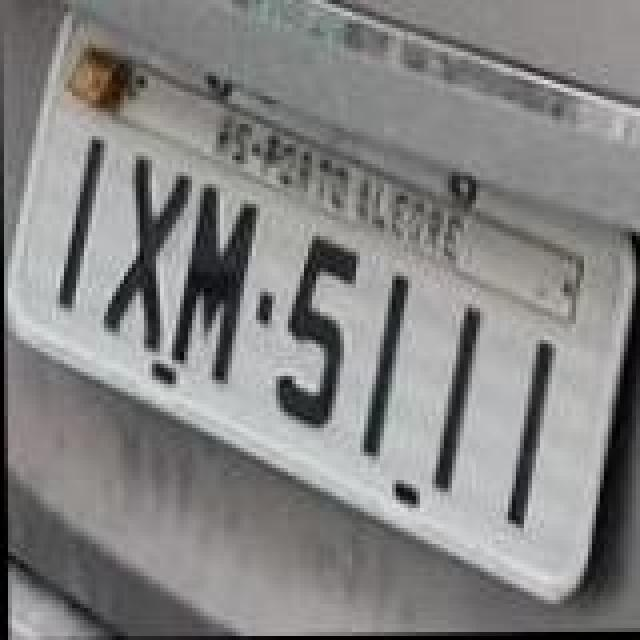1: (426, 302, 486, 494), (500, 338, 560, 530), (354, 270, 414, 458), (50, 138, 114, 310)
5: (268, 234, 364, 430)
M: (166, 184, 266, 388)
X: (96, 152, 196, 356)
